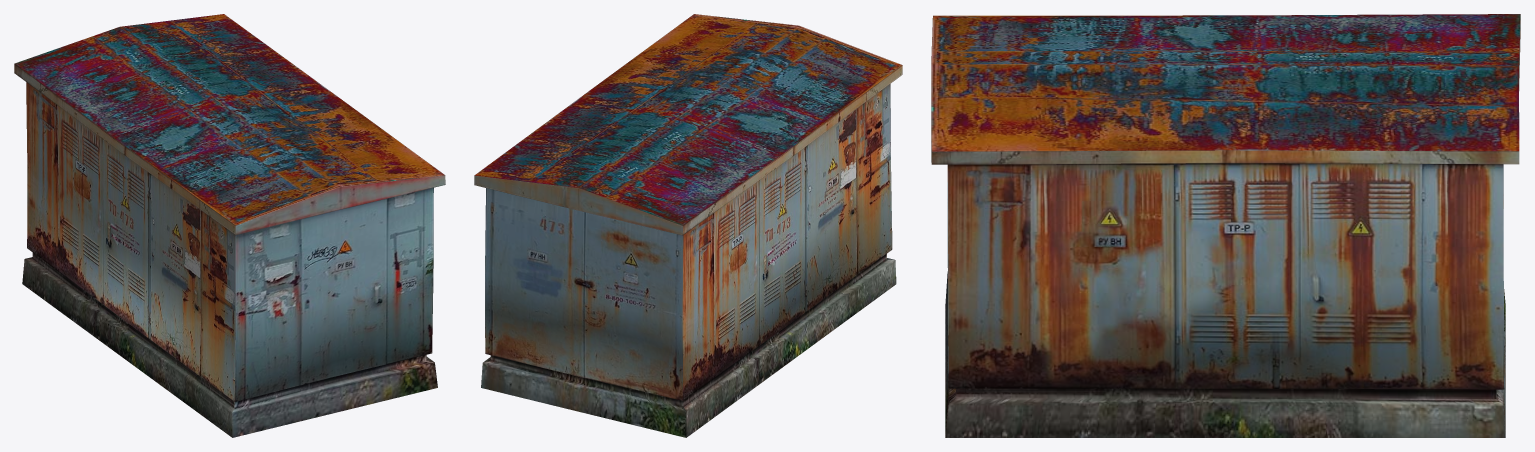
The model's file is electric_box.FBX.
3 views of the same model, side by side, from view 1: azimuth 30°, elevation 25°; view 2: azimuth 150°, elevation 25°; view 3: azimuth 270°, elevation 25° (orthographic). The views are drawn at different scales.
Visible parts, largest first — view 1: Box001; view 2: Box001; view 3: Box001.
Boxes of the visible parts, x1,y1,x2,y2 form: Box001: (14, 14, 445, 437); Box001: (474, 14, 902, 437); Box001: (931, 14, 1520, 437).
Bounding box in the file's own units: 74.73 × 78.03 × 136.
